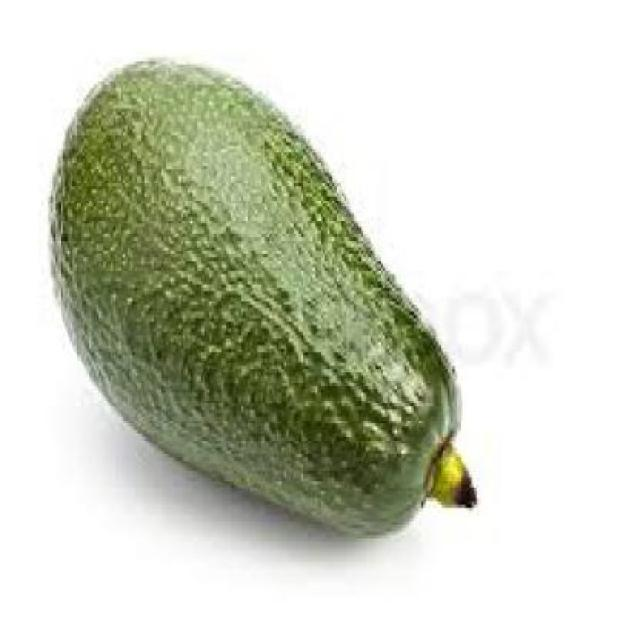BIODEGRADABLE: (43, 54, 477, 535)
